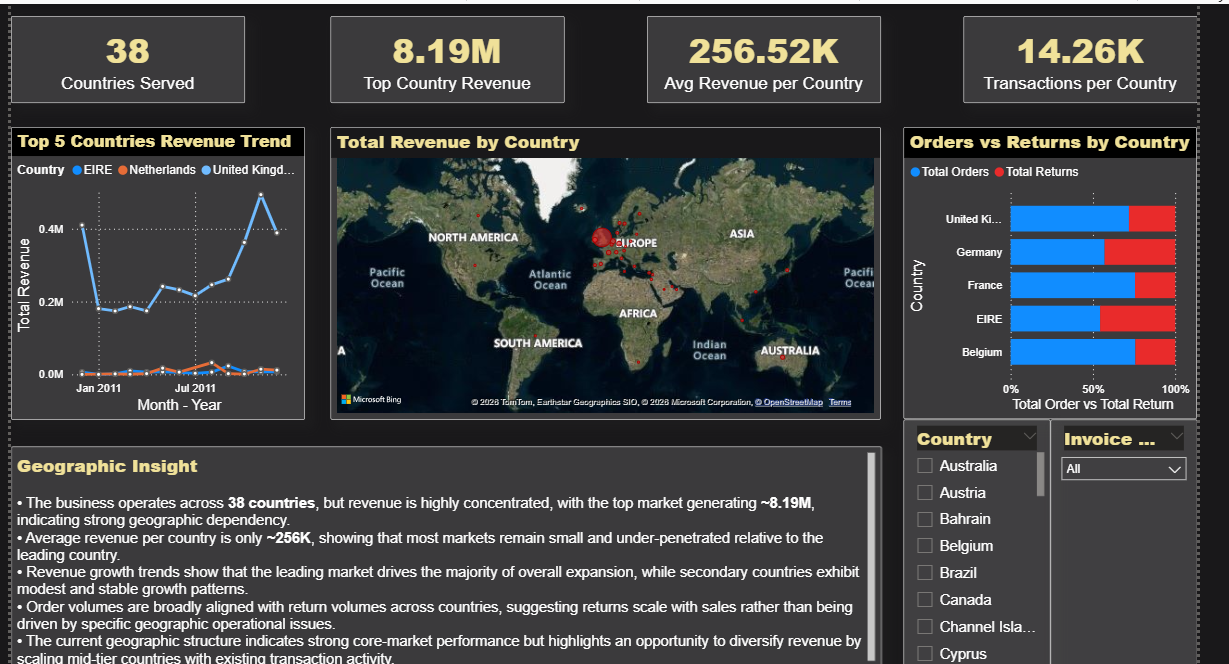

Layout of this report page (visuals, bound fields, positions):
{"tool":"powerbi","page":{"name":"Geographical Insights","canvas":[1280,720],"ordinal":4},"visuals":[{"type":"card","fields":{"Values":["Count(uk_ecommerce_bi_ready.Country)"]},"box":[0,13,252.6,93.9],"z":0},{"type":"card","fields":{"Values":["uk_ecommerce_bi_ready.Top Country Revenue"]},"box":[344.9,13,252.6,93.9],"z":1000},{"type":"card","fields":{"Values":["uk_ecommerce_bi_ready.Avg Revenue per Country"]},"box":[686.6,13,252.6,93.9],"z":2000},{"type":"card","fields":{"Values":["uk_ecommerce_bi_ready.Transactions per Country"]},"box":[1028.2,13,252.6,93.9],"z":3000},{"type":"map","fields":{"Category":["uk_ecommerce_bi_ready.Country"],"Size":["uk_ecommerce_bi_ready.Total Revenue"]},"box":[344.9,132.8,594.3,315.7],"z":4000},{"type":"lineChart","title":"Top 5 Countries Revenue Trend","fields":{"Y":["uk_ecommerce_bi_ready.Total Revenue"],"Series":["uk_ecommerce_bi_ready.Country"],"Category":["uk_ecommerce_bi_ready.InvoiceDate.Variation.Date Hierarchy.Year","uk_ecommerce_bi_ready.InvoiceDate.Variation.Date Hierarchy.Month"]},"box":[0,132.8,317.4,315.7],"z":5000},{"type":"hundredPercentStackedBarChart","title":"Orders vs Returns by Country","fields":{"Category":["uk_ecommerce_bi_ready.Country"],"Y":["uk_ecommerce_bi_ready.Total Orders","uk_ecommerce_bi_ready.Total Returns"]},"box":[963.3,133.3,316.7,315],"z":5001},{"type":"slicer","fields":{"Values":["uk_ecommerce_bi_ready.Country"]},"box":[963.3,448.3,158.3,271.7],"z":5002},{"type":"slicer","fields":{"Values":["uk_ecommerce_bi_ready.InvoiceDate"]},"box":[1121.7,448.3,158.3,271.7],"z":5003},{"type":"textbox","box":[0,478.3,940,241.7],"z":5004}]}

Visuals, with their boxes on the page's 1280x720 design canvas (x1, y1, x2, y2). These are canvas units, not pixel positions in the 1229x664 screenshot, which may show the page scaled, cropped or inside an application window:
card - Count(uk_ecommerce_bi_ready.Country): bbox=[0, 13, 253, 107]
card - uk_ecommerce_bi_ready.Top Country Revenue: bbox=[345, 13, 598, 107]
card - uk_ecommerce_bi_ready.Avg Revenue per Country: bbox=[687, 13, 939, 107]
card - uk_ecommerce_bi_ready.Transactions per Country: bbox=[1028, 13, 1281, 107]
map - uk_ecommerce_bi_ready.Country x uk_ecommerce_bi_ready.Total Revenue: bbox=[345, 133, 939, 448]
"Top 5 Countries Revenue Trend" lineChart: bbox=[0, 133, 317, 448]
"Orders vs Returns by Country" hundredPercentStackedBarChart: bbox=[963, 133, 1280, 448]
slicer - uk_ecommerce_bi_ready.Country: bbox=[963, 448, 1122, 720]
slicer - uk_ecommerce_bi_ready.InvoiceDate: bbox=[1122, 448, 1280, 720]
textbox: bbox=[0, 478, 940, 720]
